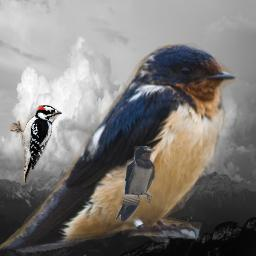Swallow: (0, 42, 240, 254), (115, 146, 155, 222)
Woodpecker: (10, 105, 62, 183)
